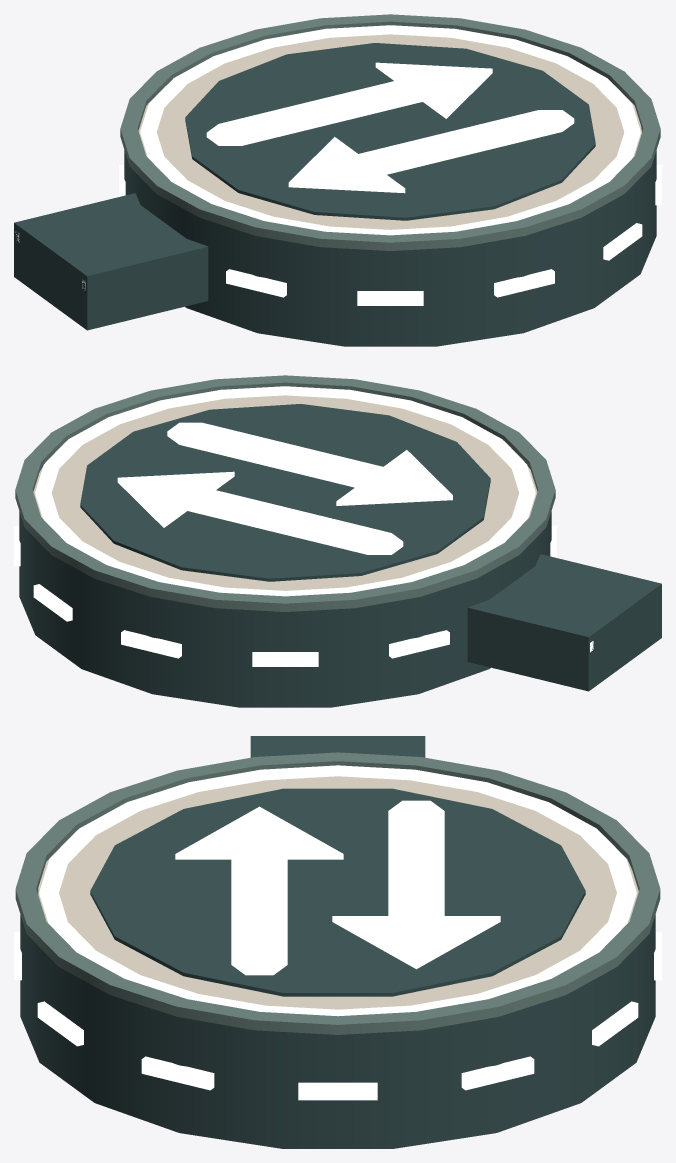
Rendered from Relay_Button_Switch_v2_lab.glb.
3 views of the same model, one above another, from view 1: azimuth 30°, elevation 25°; view 2: azimuth 150°, elevation 25°; view 3: azimuth 270°, elevation 25° (orthographic). The views are drawn at different scales.
Visible parts, largest first — view 1: Relay_Button_Switch_v2, Glyph, Strut; view 2: Relay_Button_Switch_v2, Glyph, Strut; view 3: Relay_Button_Switch_v2, Glyph, Strut.
Boxes of the visible parts, box(x1,y1,x2,y2) form: Relay_Button_Switch_v2: box(119, 14, 661, 346); Glyph: box(185, 43, 595, 220); Strut: box(14, 193, 208, 330); Relay_Button_Switch_v2: box(14, 375, 556, 707); Glyph: box(80, 404, 490, 581); Strut: box(467, 554, 661, 691); Relay_Button_Switch_v2: box(14, 752, 661, 1148); Glyph: box(90, 788, 585, 996); Strut: box(250, 736, 425, 757).
Size of the model in its own units: 4.99 by 1.61 by 4.08.
